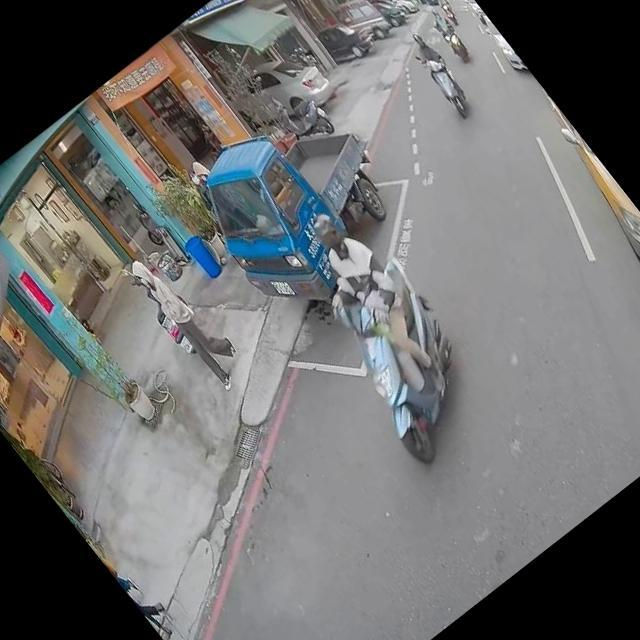person: (276, 198, 467, 412), (118, 240, 252, 394), (113, 559, 184, 640), (402, 28, 472, 108), (180, 163, 226, 216), (424, 5, 458, 41), (186, 155, 214, 184), (432, 0, 451, 11)
